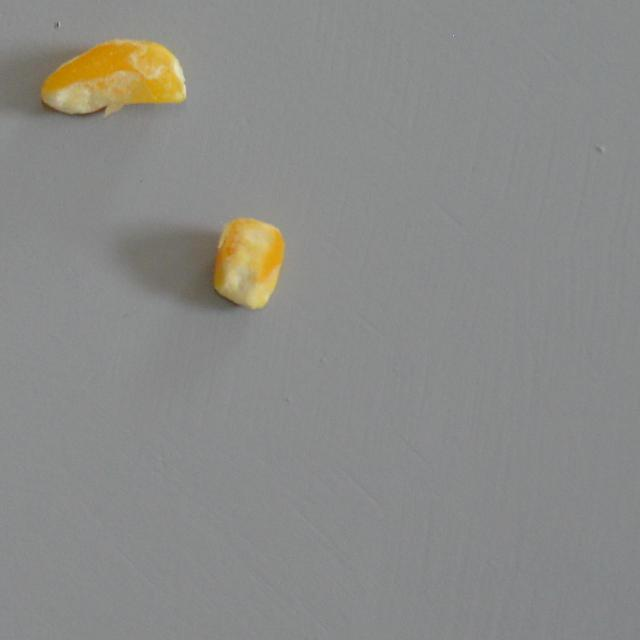dañado: (37, 36, 198, 119)
pelicula: (208, 209, 288, 314)
